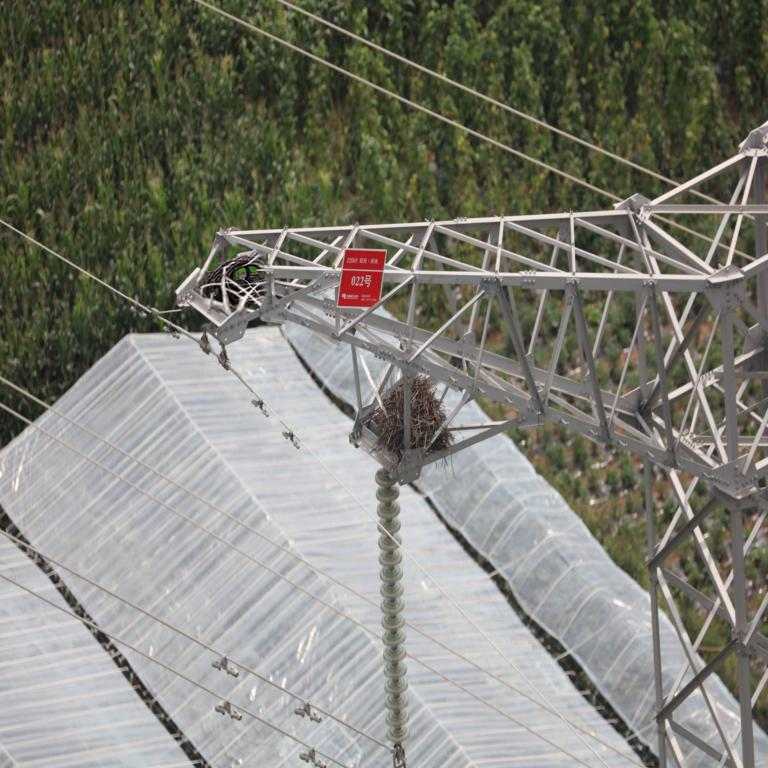nest: (369, 379, 452, 456), (211, 263, 278, 324)
